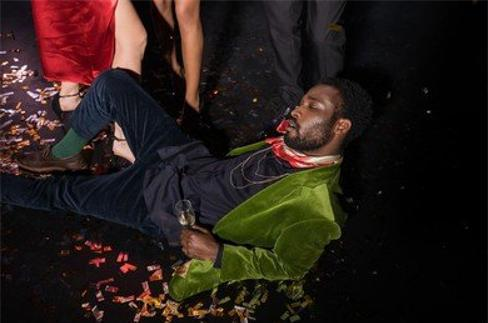Drunk: (282, 89, 337, 147)
